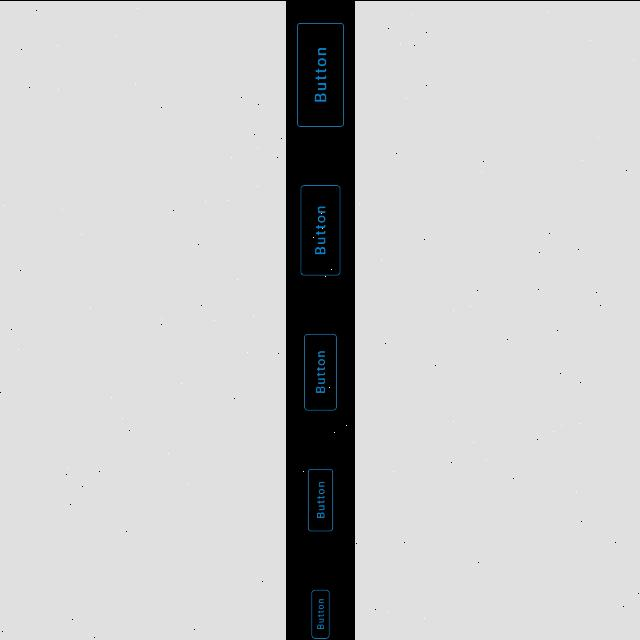QLabel: (314, 44, 326, 104), (314, 203, 326, 254), (315, 346, 325, 394), (316, 478, 324, 518), (316, 598, 324, 630)
VBtn: (295, 21, 345, 128), (298, 182, 342, 276), (302, 332, 338, 411), (306, 467, 334, 531), (310, 588, 330, 638)
